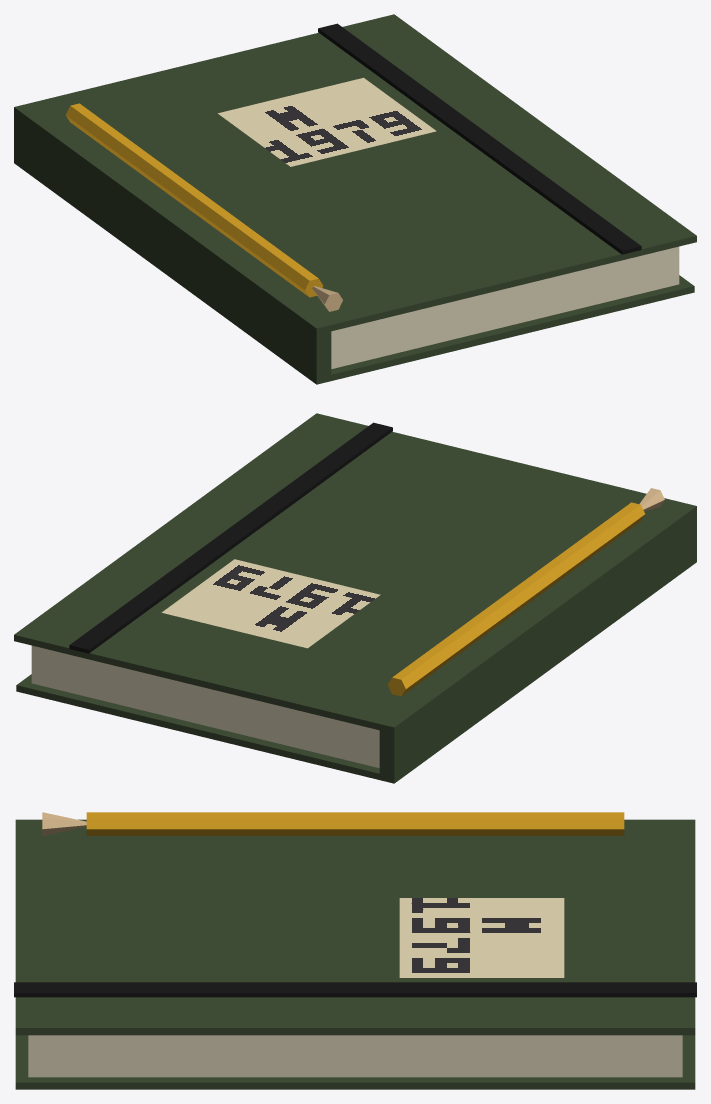
The model's file is m_journal.glb.
The picture shows the model from 3 angles, top to bottom: view 1: azimuth 30°, elevation 25°; view 2: azimuth 150°, elevation 25°; view 3: azimuth 270°, elevation 25°; orthographic projection. The views are drawn at different scales.
Parts seen in each view (by area): view 1: Cover, Journal; view 2: Cover, Journal; view 3: Cover, Journal.
Part boxes in pixels (x1,y1,x2,y2): Cover: [14, 14, 696, 334]; Journal: [14, 103, 694, 384]; Cover: [14, 413, 696, 733]; Journal: [16, 502, 696, 783]; Cover: [14, 812, 696, 1035]; Journal: [15, 819, 695, 1089].
Size of the model in its own units: 0.156 by 0.0293 by 0.216.
Materials: 8 (2 with a texture image).
